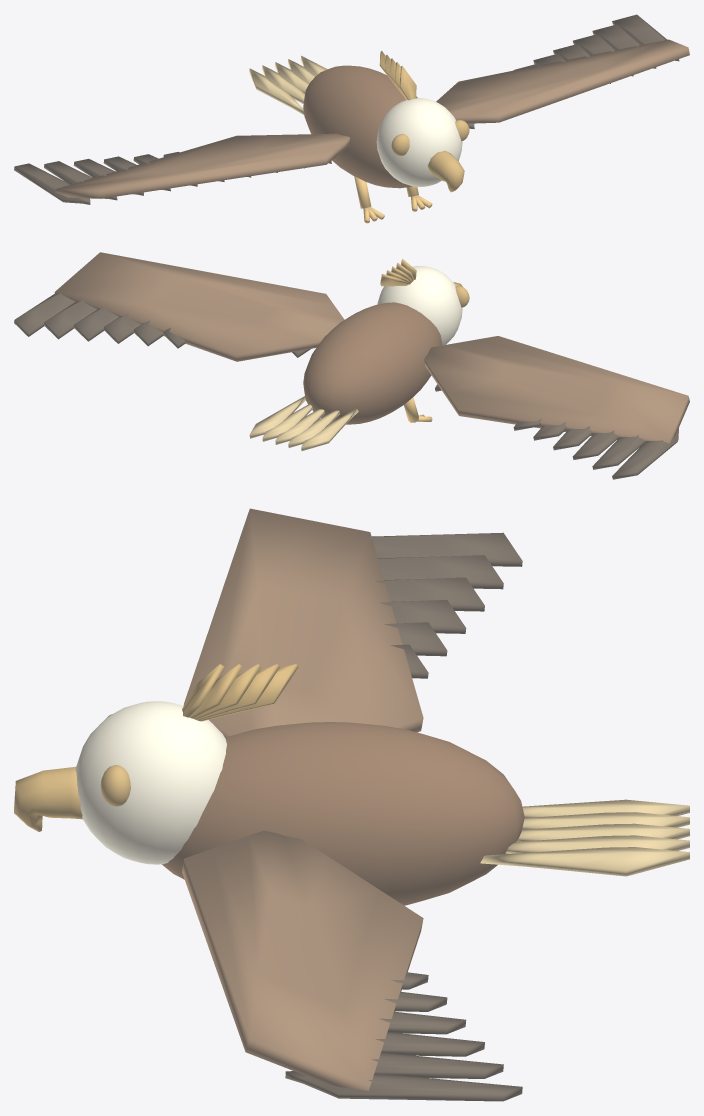
File: critter_suncresteagle.glb
The picture shows the model from 3 angles, top to bottom: view 1: azimuth 30°, elevation 25°; view 2: azimuth 150°, elevation 25°; view 3: azimuth 270°, elevation 25°; orthographic projection. The views are drawn at different scales.
Parts seen in each view (by area): view 1: critter_suncresteagle_rigmesh_4, critter_suncresteagle_rigmesh_2, critter_suncresteagle_rigmesh_0, critter_suncresteagle_rigmesh_3, critter_suncresteagle_rigmesh_1, critter_suncresteagle_rigmesh_5, critter_suncresteagle_rigmesh_6; view 2: critter_suncresteagle_rigmesh_2, critter_suncresteagle_rigmesh_4, critter_suncresteagle_rigmesh_0, critter_suncresteagle_rigmesh_3, critter_suncresteagle_rigmesh_1; view 3: critter_suncresteagle_rigmesh_2, critter_suncresteagle_rigmesh_4, critter_suncresteagle_rigmesh_0, critter_suncresteagle_rigmesh_3, critter_suncresteagle_rigmesh_1.
Part boxes in pixels (x1,y1,x2,y2): critter_suncresteagle_rigmesh_4: (14,133,349,204); critter_suncresteagle_rigmesh_2: (436,14,689,129); critter_suncresteagle_rigmesh_0: (303,65,417,188); critter_suncresteagle_rigmesh_3: (376,51,469,192); critter_suncresteagle_rigmesh_1: (249,55,327,114); critter_suncresteagle_rigmesh_5: (354,176,384,223); critter_suncresteagle_rigmesh_6: (406,186,432,211); critter_suncresteagle_rigmesh_2: (14,252,344,361); critter_suncresteagle_rigmesh_4: (424,336,689,479); critter_suncresteagle_rigmesh_0: (303,302,441,424); critter_suncresteagle_rigmesh_3: (377,259,469,345); critter_suncresteagle_rigmesh_1: (249,396,358,450); critter_suncresteagle_rigmesh_2: (182,830,522,1101); critter_suncresteagle_rigmesh_4: (183,508,522,737); critter_suncresteagle_rigmesh_0: (162,722,524,905); critter_suncresteagle_rigmesh_3: (14,664,298,864); critter_suncresteagle_rigmesh_1: (480,799,689,876).
Bounding box in the file's own units: 6.29 × 1.47 × 3.2.
